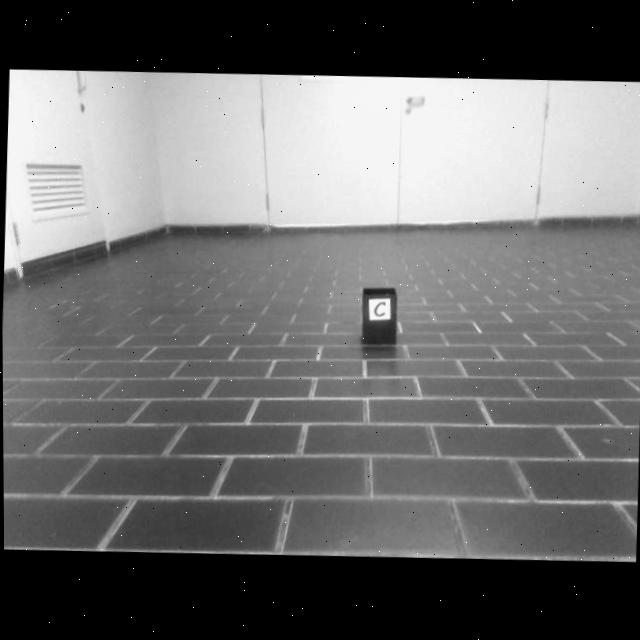C: (373, 303, 386, 319)
